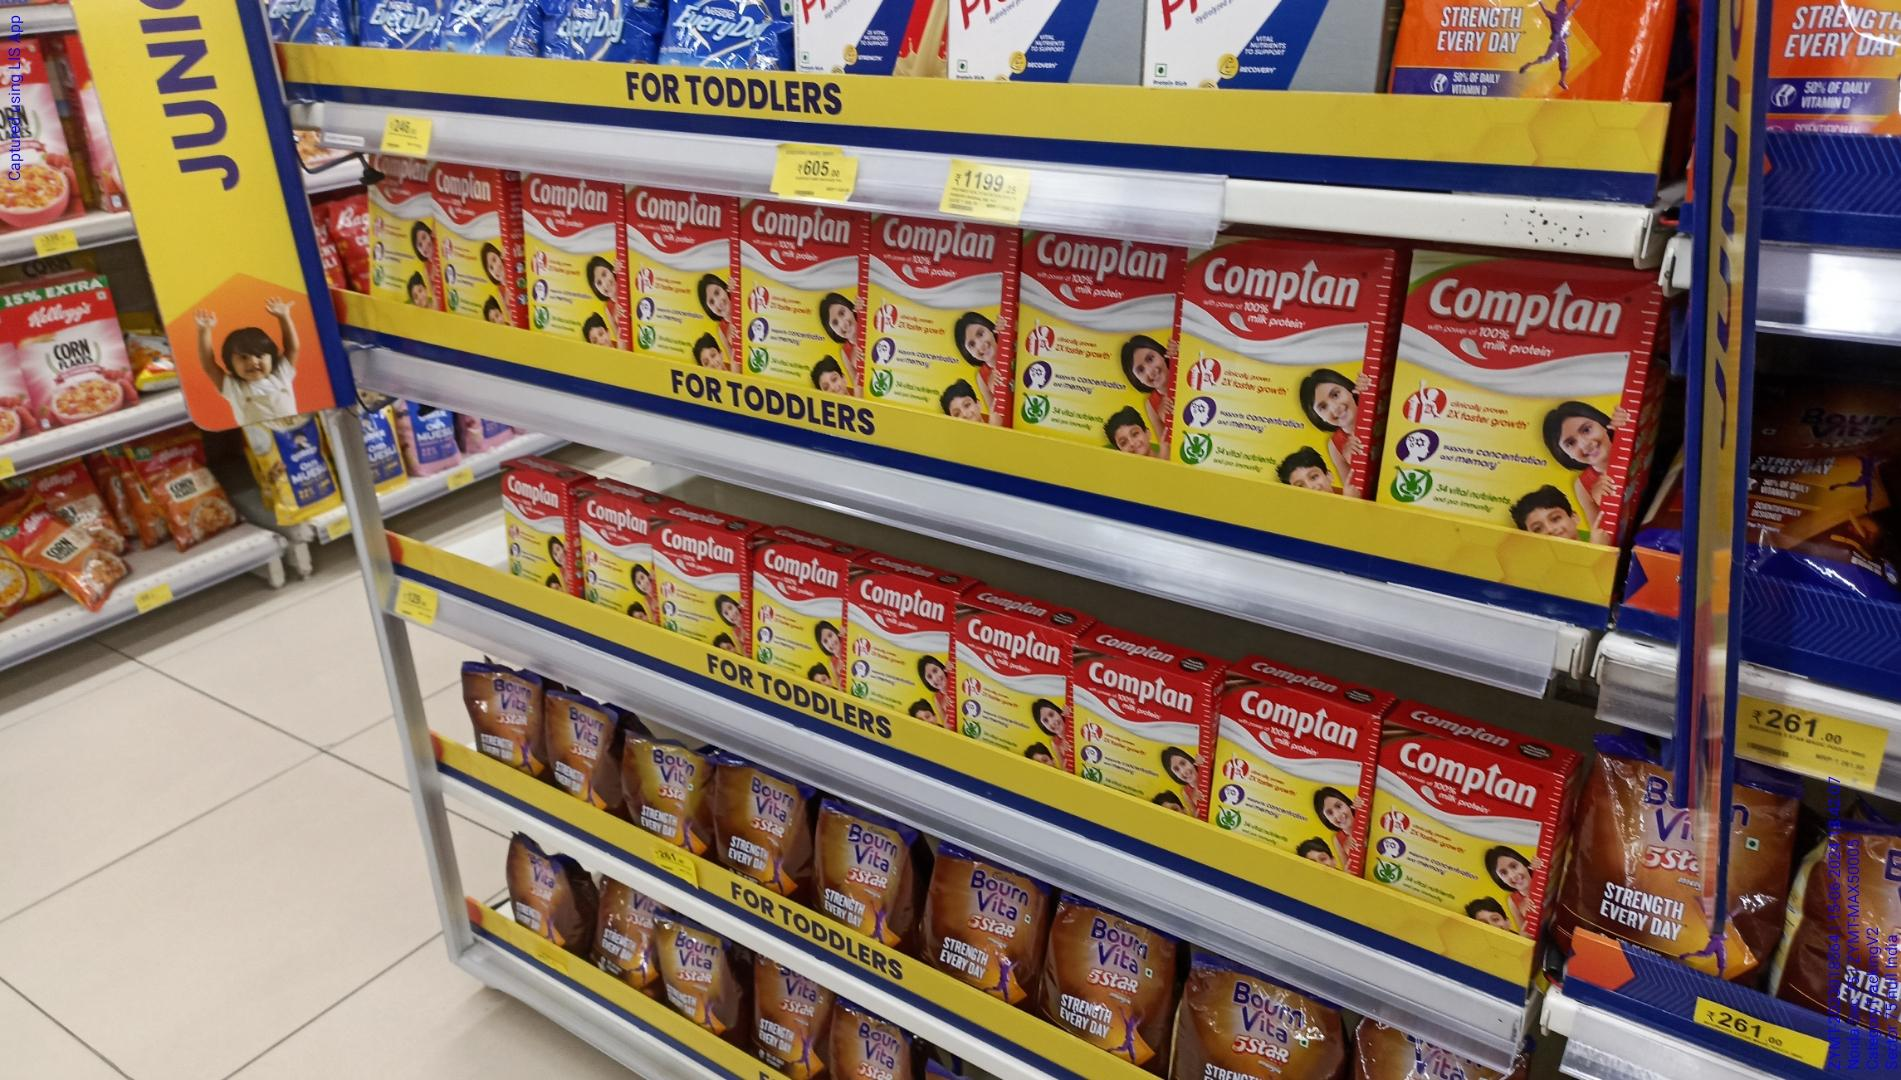BOURN_VITA_FIVE_STAR_MAGIC_500_G_POUCH: (1581, 746, 1777, 982), (1045, 891, 1159, 1055), (927, 838, 1033, 996), (812, 794, 893, 931), (717, 759, 790, 889), (624, 731, 704, 838), (465, 674, 538, 773), (543, 692, 606, 793)
COMPLAN_CHOCOLATE_200_GMS_PACK: (1381, 723, 1555, 921), (1218, 678, 1372, 854), (1077, 646, 1209, 803), (961, 603, 1069, 760), (851, 563, 957, 716), (755, 539, 846, 680), (653, 517, 748, 652), (500, 465, 572, 589), (580, 498, 649, 599)
